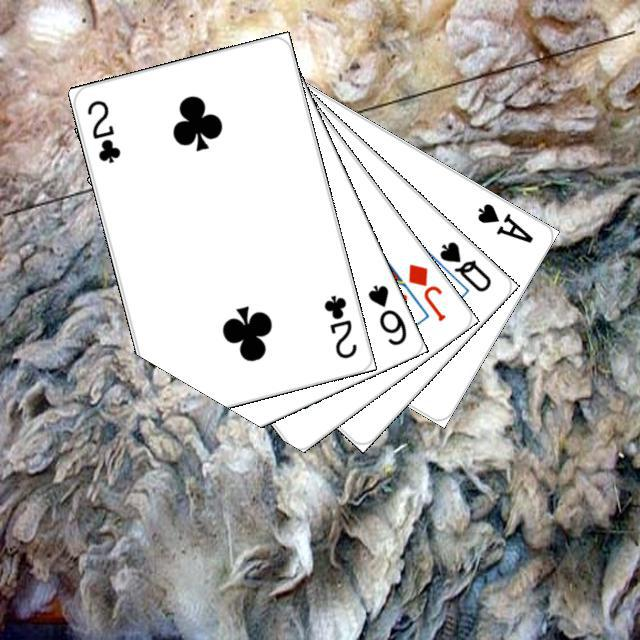2c: (319, 290, 359, 360), (82, 95, 122, 165)
6s: (363, 279, 409, 348)
As: (472, 198, 535, 245)
Jd: (403, 258, 448, 324)
Qs: (434, 236, 493, 294)
